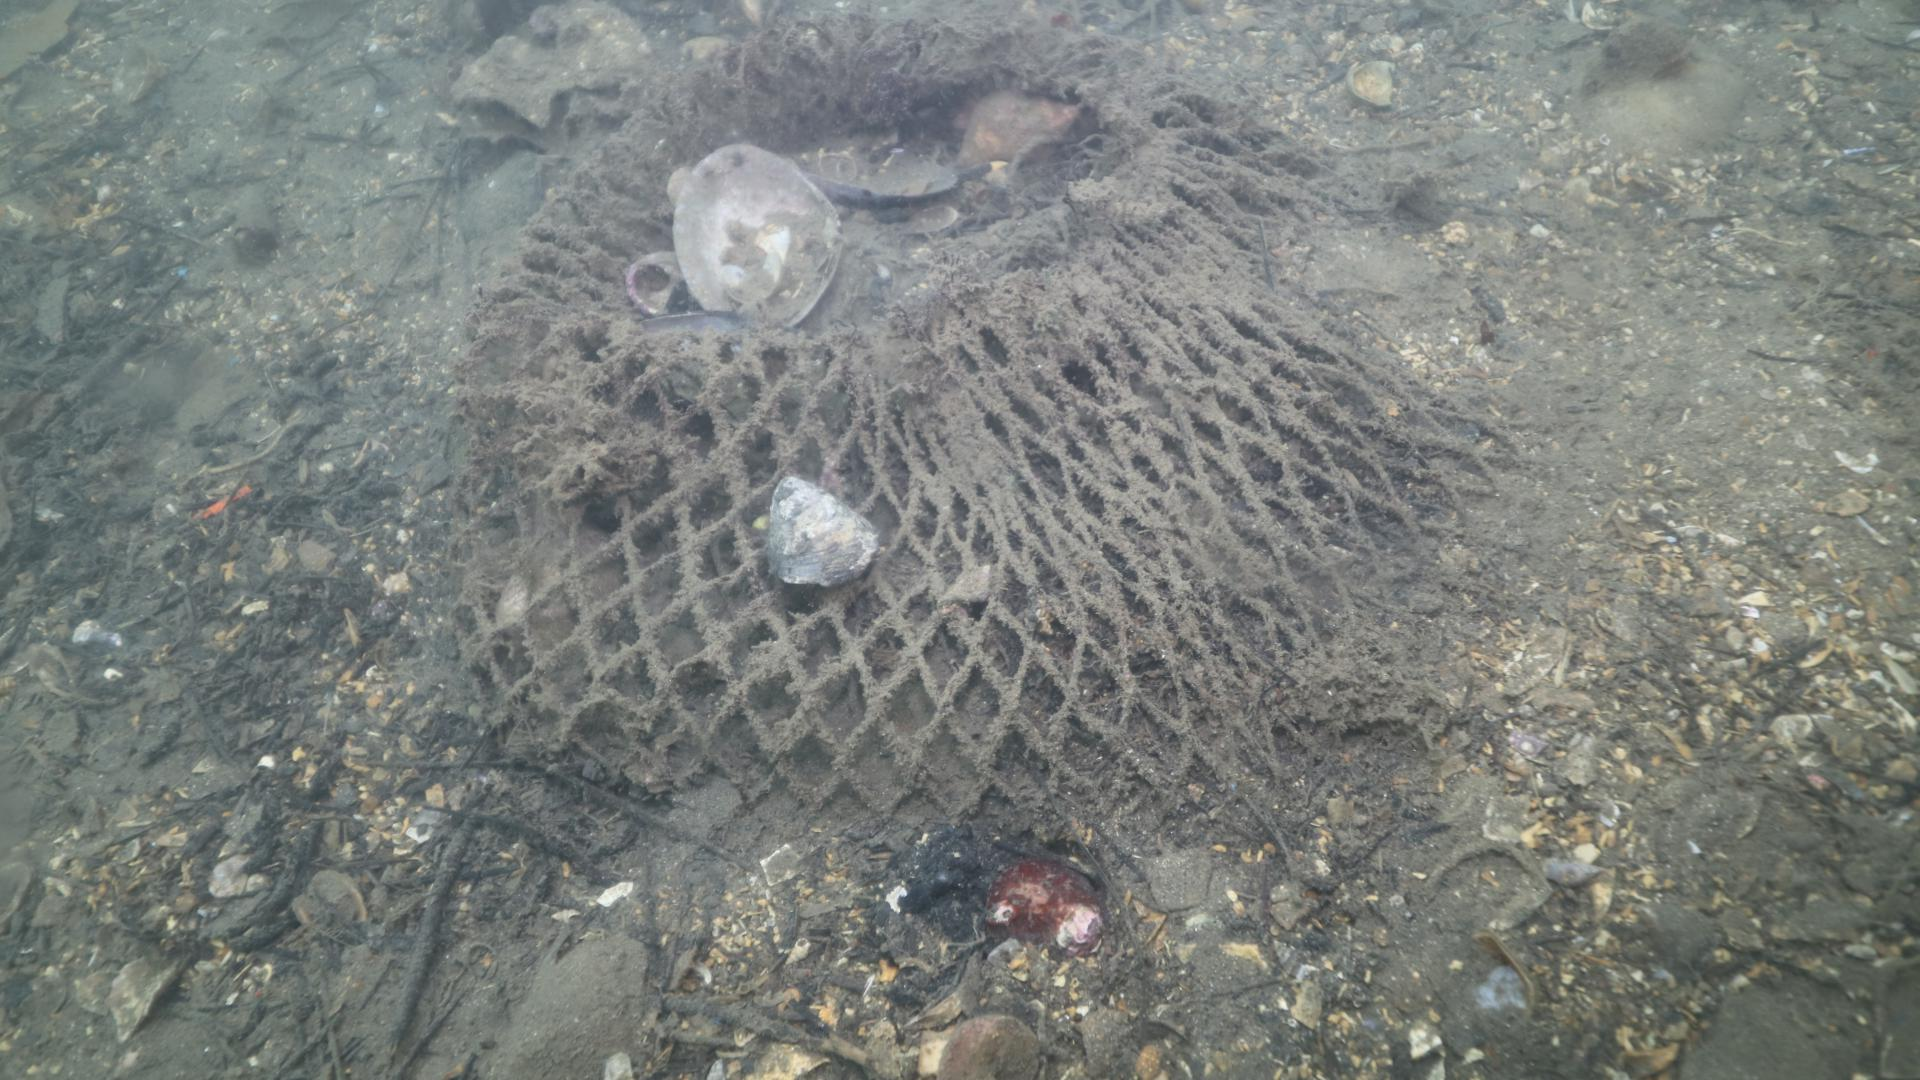fish net: (444, 11, 1505, 818)
